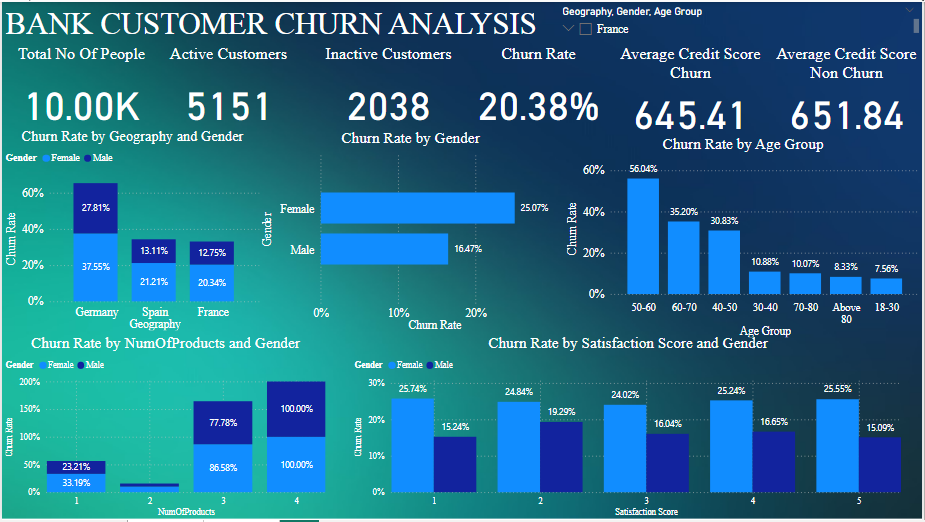

The page's visual inventory and layout, read from the dashboard file:
{"tool":"powerbi","page":{"name":"Page 1","canvas":[1280,720],"ordinal":0},"visuals":[{"type":"textbox","box":[0,0,765.9,59.8],"z":0},{"type":"card","title":"Total No Of People","fields":{"Values":["CountNonNull(Customer-Churn-Records.RowNumber)"]},"box":[0,59.8,221,134.8],"z":1},{"type":"card","title":"Active Customers","fields":{"Values":["Sum(Customer-Churn-Records.IsActiveMember)"]},"box":[204.3,59.8,221,134.8],"z":2},{"type":"card","title":"Inactive Customers","fields":{"Values":["Sum(Customer-Churn-Records.Exited)"]},"box":[426.7,59.8,221,134.8],"z":3},{"type":"card","title":"Churn Rate","fields":{"Values":["Customer-Churn-Records.Churn Rate"]},"box":[635.2,59.8,221,134.8],"z":4},{"type":"card","title":"Average Credit Score Churn","fields":{"Values":["Customer-Churn-Records.AvgCreditScore_Churned"]},"box":[846.5,59.8,221,134.8],"z":5},{"type":"card","title":"Average Credit Score Non Churn","fields":{"Values":["Customer-Churn-Records.AvgCreditSCore_NonChurn"]},"box":[1067.5,59.8,212.7,134.8],"z":6},{"type":"columnChart","fields":{"Category":["Customer-Churn-Records.Geography"],"Y":["Customer-Churn-Records.Churn Rate"],"Series":["Customer-Churn-Records.Gender"]},"box":[0,175.1,362.8,286.3],"z":7},{"type":"barChart","fields":{"Y":["Customer-Churn-Records.Churn Rate"],"Category":["Customer-Churn-Records.Gender"]},"box":[355.8,176.5,423.9,286.3],"z":8},{"type":"columnChart","fields":{"Category":["Customer-Churn-Records.Age Group"],"Y":["Customer-Churn-Records.Churn Rate"]},"box":[779.6,184.9,500.4,286.3],"z":9},{"type":"columnChart","fields":{"Category":["Customer-Churn-Records.NumOfProducts"],"Y":["Customer-Churn-Records.Churn Rate"],"Series":["Customer-Churn-Records.Gender"]},"box":[0,461.5,454.5,258.5],"z":11},{"type":"clusteredColumnChart","fields":{"Category":["Customer-Churn-Records.Satisfaction Score"],"Y":["Customer-Churn-Records.Churn Rate"],"Series":["Customer-Churn-Records.Gender"]},"box":[485.1,461.5,770,258.5],"z":12},{"type":"slicer","fields":{"Values":["Customer-Churn-Records.Geography","Customer-Churn-Records.Gender","Customer-Churn-Records.Age Group"]},"box":[765.9,0,514.3,59.8],"z":13}]}

Visuals, with their boxes in screenshot pixels (x1, y1, x2, y2), scaled from the page's 1280x720 canvas onto the 925x522 screenshot:
textbox: [0, 0, 553, 43]
"Total No Of People" card: [0, 43, 160, 141]
"Active Customers" card: [148, 43, 307, 141]
"Inactive Customers" card: [308, 43, 468, 141]
"Churn Rate" card: [459, 43, 619, 141]
"Average Credit Score Churn" card: [612, 43, 771, 141]
"Average Credit Score Non Churn" card: [771, 43, 924, 141]
columnChart - Customer-Churn-Records.Geography x Customer-Churn-Records.Churn Rate: [0, 127, 262, 335]
barChart - Customer-Churn-Records.Churn Rate x Customer-Churn-Records.Gender: [257, 128, 563, 336]
columnChart - Customer-Churn-Records.Age Group x Customer-Churn-Records.Churn Rate: [563, 134, 924, 342]
columnChart - Customer-Churn-Records.NumOfProducts x Customer-Churn-Records.Churn Rate: [0, 335, 328, 521]
clusteredColumnChart - Customer-Churn-Records.Satisfaction Score x Customer-Churn-Records.Churn Rate: [351, 335, 907, 521]
slicer - Customer-Churn-Records.Geography x Customer-Churn-Records.Gender: [553, 0, 924, 43]
